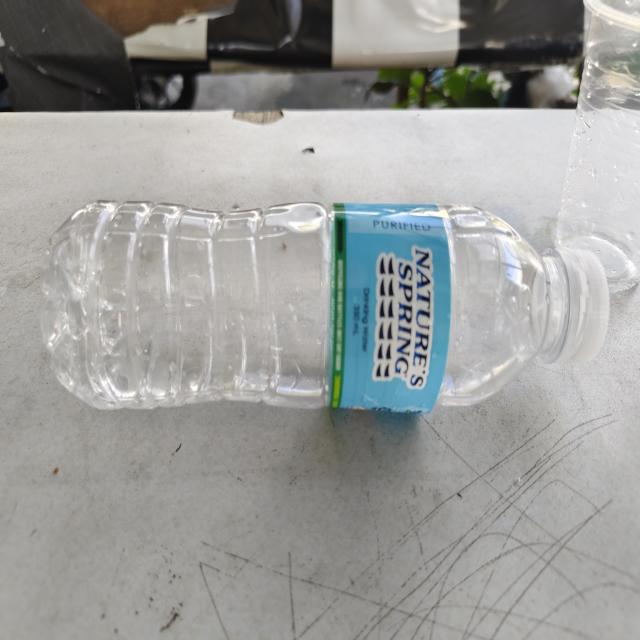Bottle: (38, 200, 612, 415)
